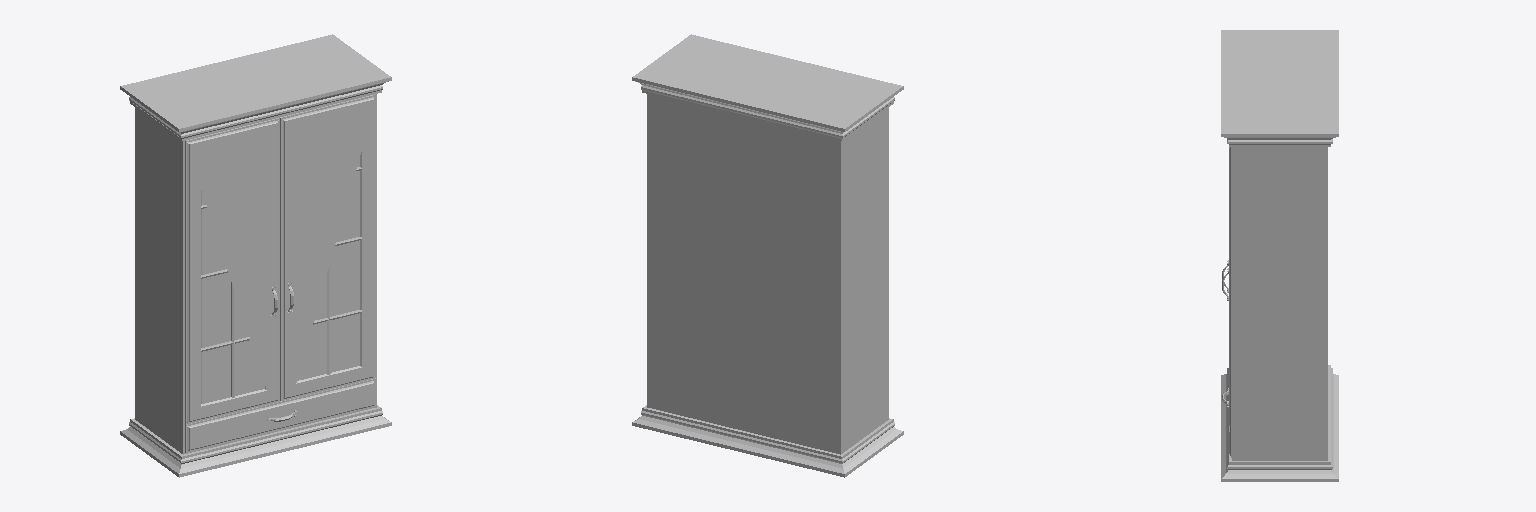
File: wardrobe_mp_1_1.obj
The picture shows the model from 3 angles: view 1: azimuth 30°, elevation 25°; view 2: azimuth 150°, elevation 25°; view 3: azimuth 270°, elevation 25°; orthographic projection.
Visible parts, largest first — view 1: wardrobe_mp_1_1, wardrobe_mp_1_1_door_2, wardrobe_mp_1_1_door_1, wardrobe_mp_1_1_drawer; view 2: wardrobe_mp_1_1; view 3: wardrobe_mp_1_1, wardrobe_mp_1_1_door_2.
Part boxes in pixels (bbox=[...]): wardrobe_mp_1_1: bbox=[120, 34, 391, 477]; wardrobe_mp_1_1_door_2: bbox=[280, 94, 375, 400]; wardrobe_mp_1_1_door_1: bbox=[185, 118, 279, 424]; wardrobe_mp_1_1_drawer: bbox=[185, 378, 375, 452]; wardrobe_mp_1_1: bbox=[632, 34, 903, 477]; wardrobe_mp_1_1: bbox=[1221, 30, 1338, 481]; wardrobe_mp_1_1_door_2: bbox=[1222, 147, 1231, 429].
Size of the model in its own units: 1.34 by 2.1 by 0.64.